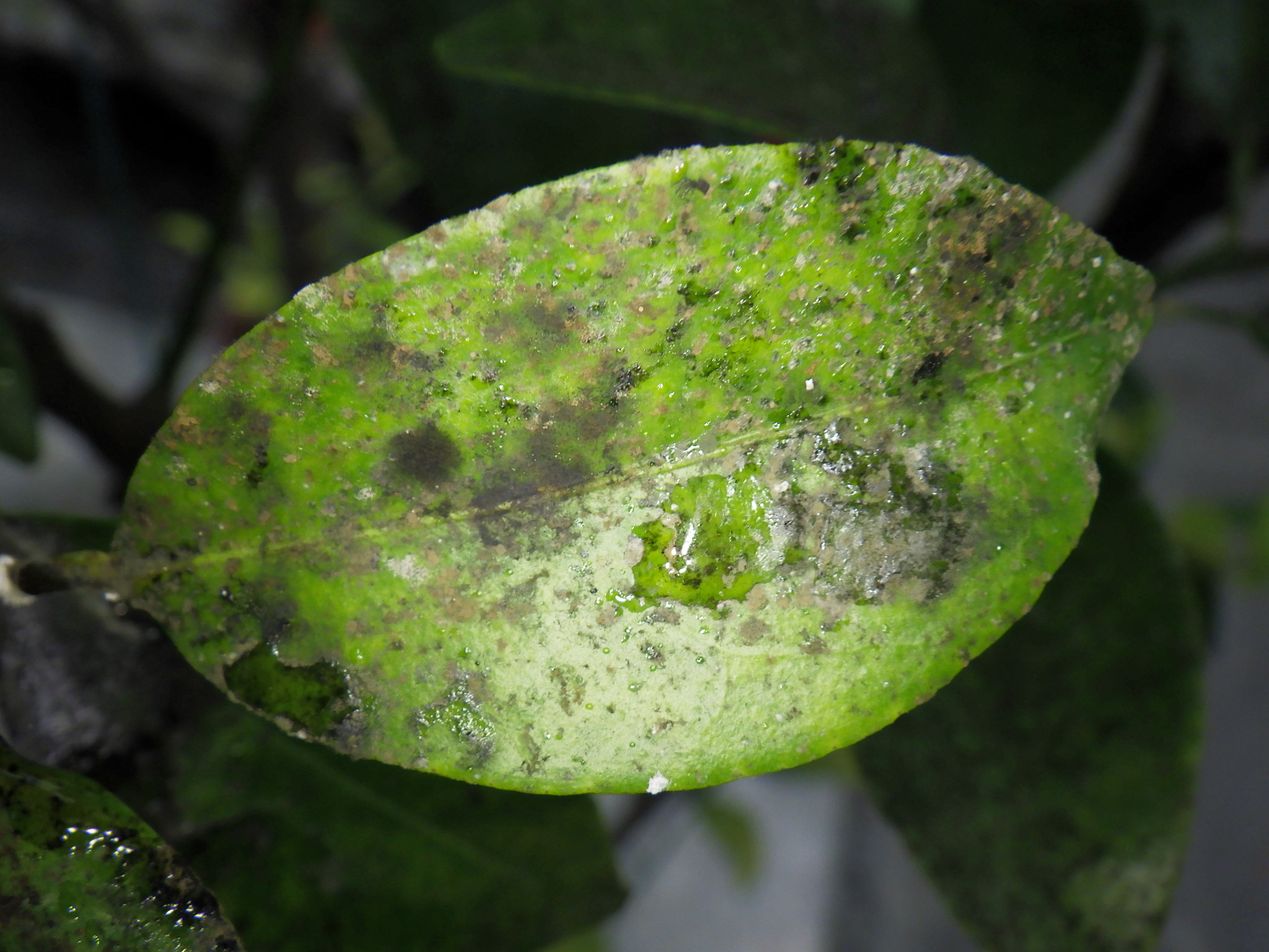Sooty_Mold: (85, 140, 1151, 793)
